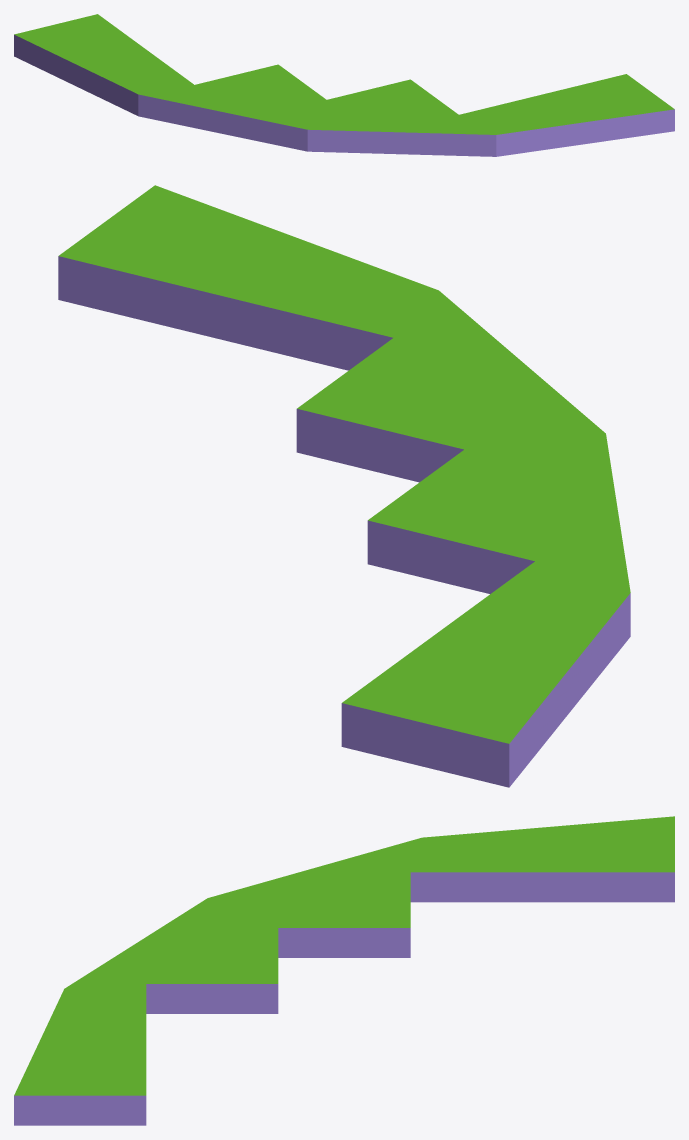
File: Tiered_Grass_Curve_Outer_5x5.glb
The picture shows the model from 3 angles, top to bottom: view 1: azimuth 30°, elevation 25°; view 2: azimuth 150°, elevation 25°; view 3: azimuth 270°, elevation 25°; orthographic projection. The views are drawn at different scales.
Visible parts, largest first — view 1: Tiered_Grass_Curve_Outer_5x5; view 2: Tiered_Grass_Curve_Outer_5x5; view 3: Tiered_Grass_Curve_Outer_5x5.
Part boxes in pixels (left/top/right/bottom): Tiered_Grass_Curve_Outer_5x5: left=14, top=14, right=674, bottom=156; Tiered_Grass_Curve_Outer_5x5: left=58, top=185, right=630, bottom=787; Tiered_Grass_Curve_Outer_5x5: left=14, top=816, right=674, bottom=1125.
Bounding box in the file's own units: 500 × 25 × 500.
